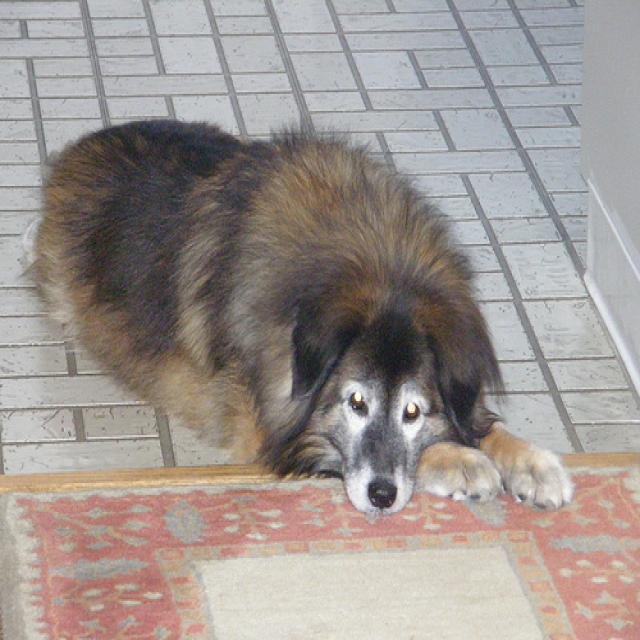dog-leonberger: (22, 109, 571, 522)
